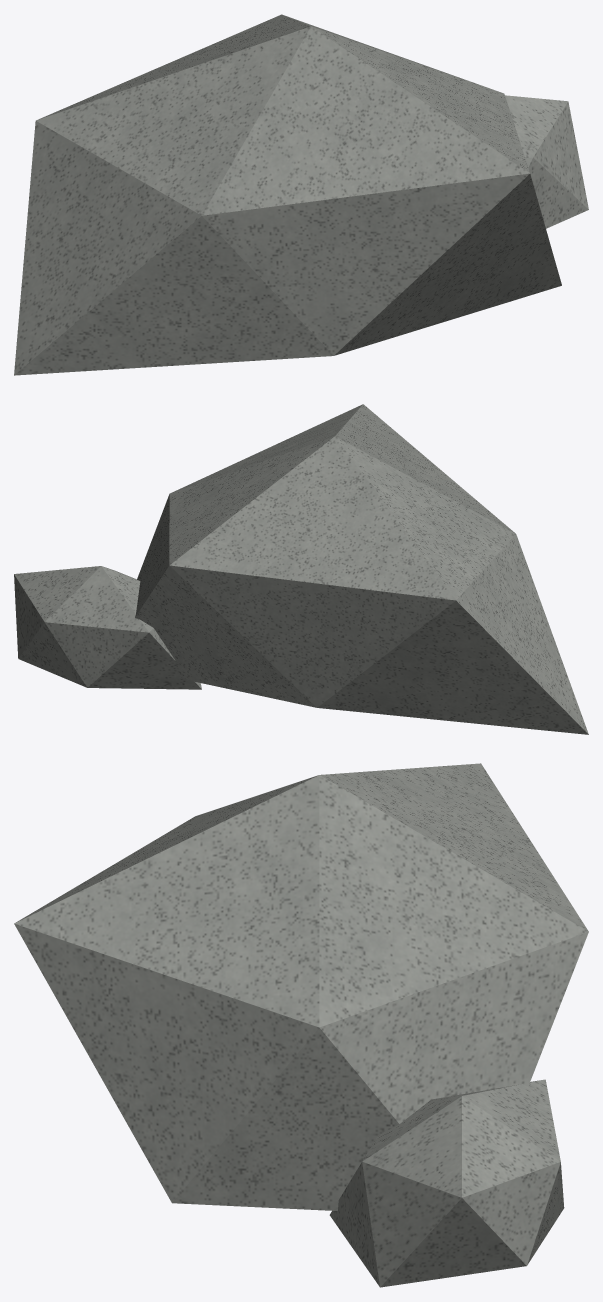
The model's file is Rock.fbx.
3 renders of one model, top to bottom at view 1: azimuth 30°, elevation 25°; view 2: azimuth 150°, elevation 25°; view 3: azimuth 270°, elevation 25°, orthographic. The views are drawn at different scales.
Parts seen in each view (by area): view 1: Rock; view 2: Rock; view 3: Rock.
Part boxes in pixels (<box>): Rock: <box>14,14,588,375</box>; Rock: <box>14,404,588,734</box>; Rock: <box>14,763,588,1287</box>.
Bounding box in the file's own units: 1.2 × 0.5182 × 0.8065.
1 material, 1 textured.
